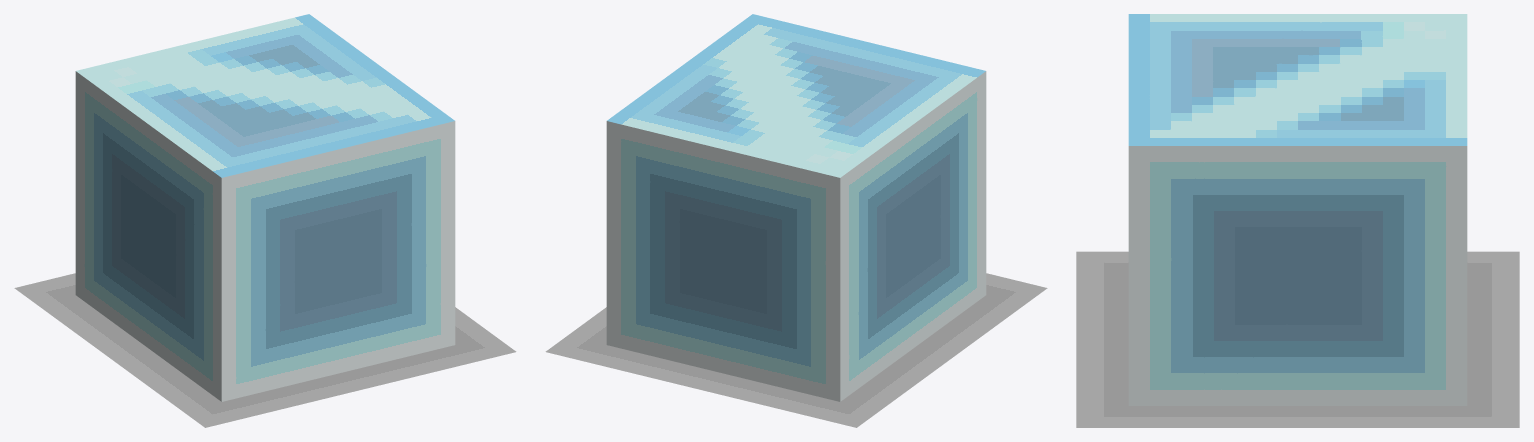
The picture shows the model from 3 angles, left to right: view 1: azimuth 30°, elevation 25°; view 2: azimuth 150°, elevation 25°; view 3: azimuth 270°, elevation 25°; orthographic projection. The views are drawn at different scales.
Parts seen in each view (by area): view 1: polygon0, polygon1, polygon2; view 2: polygon0, polygon1, polygon2; view 3: polygon0, polygon1, polygon2.
Part boxes in pixels (bbox=[...]): polygon0: bbox=[75, 71, 455, 401]; polygon1: bbox=[76, 14, 454, 177]; polygon2: bbox=[14, 273, 516, 427]; polygon0: bbox=[606, 71, 986, 401]; polygon1: bbox=[607, 14, 985, 177]; polygon2: bbox=[545, 273, 1047, 427]; polygon0: bbox=[1128, 146, 1467, 405]; polygon1: bbox=[1128, 14, 1467, 145]; polygon2: bbox=[1076, 251, 1519, 427].
Size of the model in its own units: 8 by 5.5 by 8.5.
3 materials, 3 textured.
